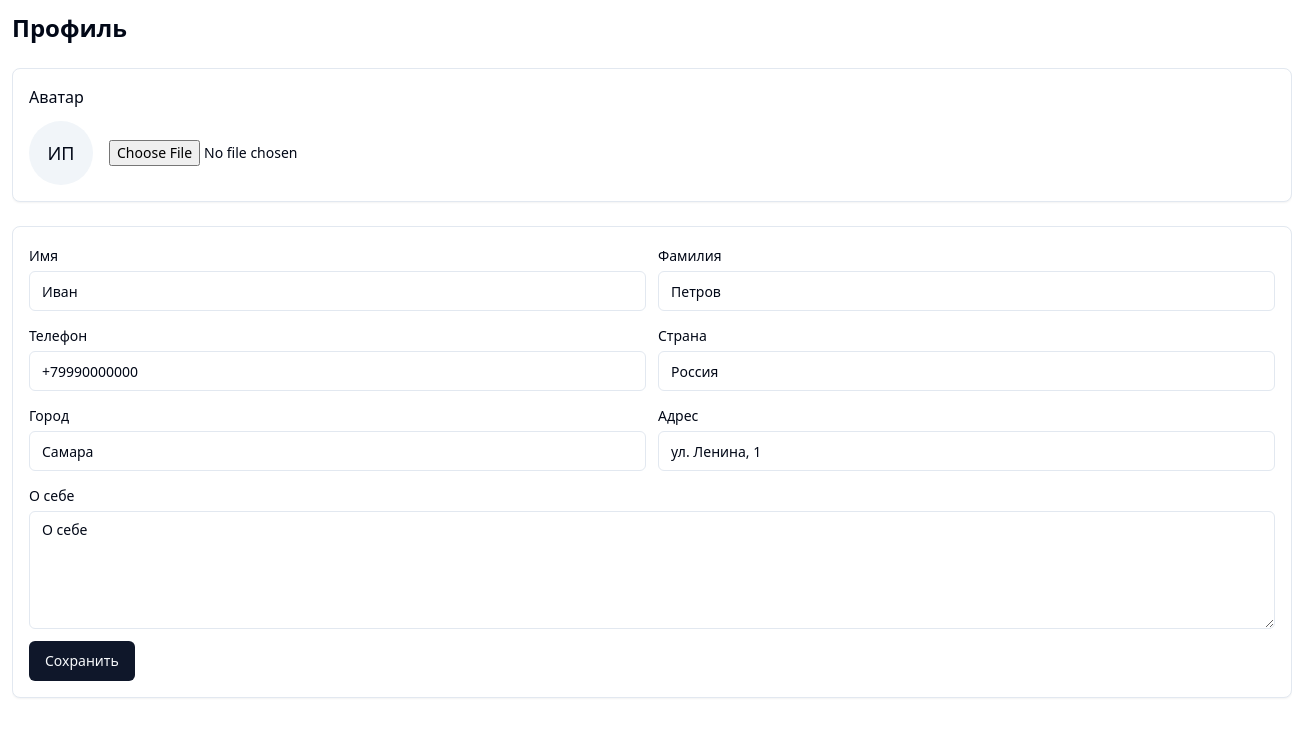
Test: Profile page › maps server violations onto their fields
The image size is (1292, 732).
Click the button "Сохранить": (82, 661) [29,641,135,681]
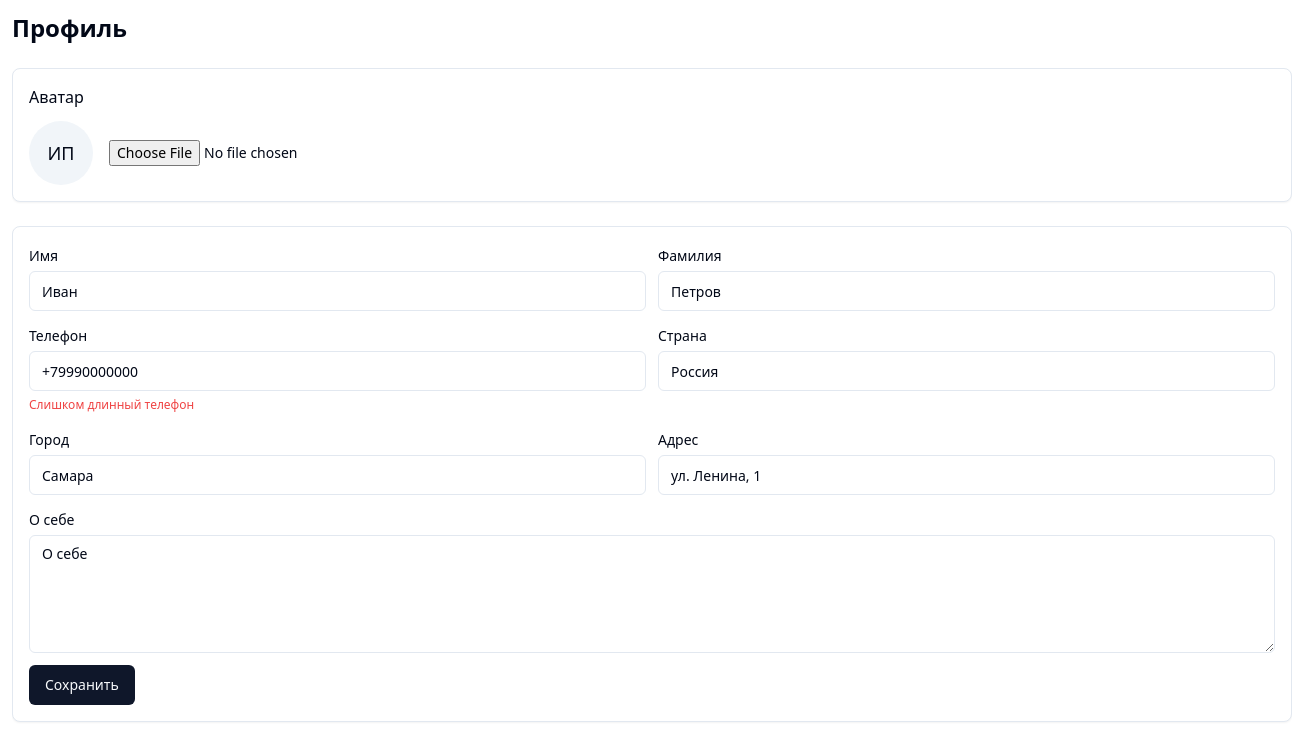
Expected: the text "Слишком длинный телефон" is shown, [29,396,194,413]
